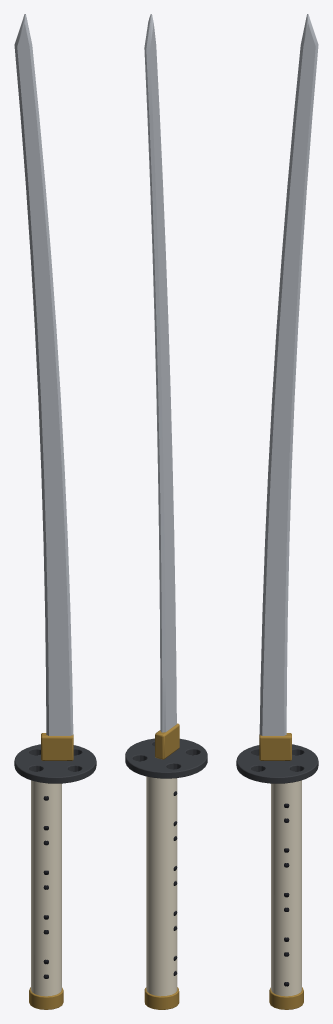
Rendered from katana.glb.
3 renders of one model, left to right at view 1: azimuth 90°, elevation 25°; view 2: azimuth 150°, elevation 25°; view 3: azimuth 270°, elevation 25°, orthographic.
Visible parts, largest first — view 1: blade, tsuka, tsuba, habaki, kashira; view 2: blade, tsuka, tsuba, habaki, kashira; view 3: blade, tsuka, tsuba, habaki, kashira.
Boxes of the visible parts, x1,y1,x2,y2 form: blade: (14, 14, 73, 735); tsuka: (31, 780, 61, 996); tsuba: (14, 744, 96, 783); habaki: (41, 733, 73, 760); kashira: (29, 987, 63, 1009); blade: (144, 14, 176, 732); tsuka: (146, 776, 177, 996); tsuba: (125, 738, 207, 778); habaki: (155, 723, 179, 759); kashira: (144, 987, 179, 1009); blade: (259, 14, 318, 735); tsuka: (271, 780, 301, 996); tsuba: (236, 744, 318, 783); habaki: (259, 733, 291, 760); kashira: (269, 987, 303, 1009).
Size of the model in its own units: 0.09 by 1.2 by 0.09.
